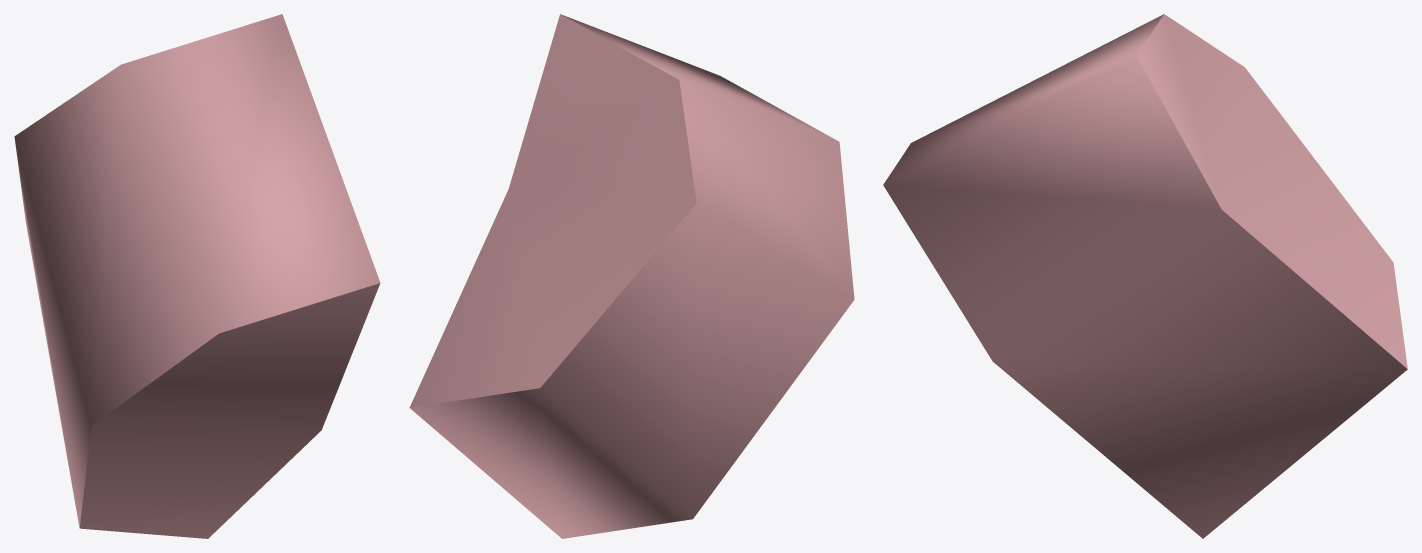
3 renders of one model, left to right at view 1: azimuth 30°, elevation 25°; view 2: azimuth 150°, elevation 25°; view 3: azimuth 270°, elevation 25°, orthographic. The views are drawn at different scales.
Visible parts, largest first — view 1: ZA_3f7e98d6d0ad4c15; view 2: ZA_3f7e98d6d0ad4c15; view 3: ZA_3f7e98d6d0ad4c15.
Boxes of the visible parts, x1,y1,x2,y2 form: ZA_3f7e98d6d0ad4c15: (14, 14, 380, 538); ZA_3f7e98d6d0ad4c15: (409, 14, 854, 538); ZA_3f7e98d6d0ad4c15: (883, 14, 1407, 538).
Bounding box in the file's own units: 0.00291 × 0.00546 × 0.00519.
